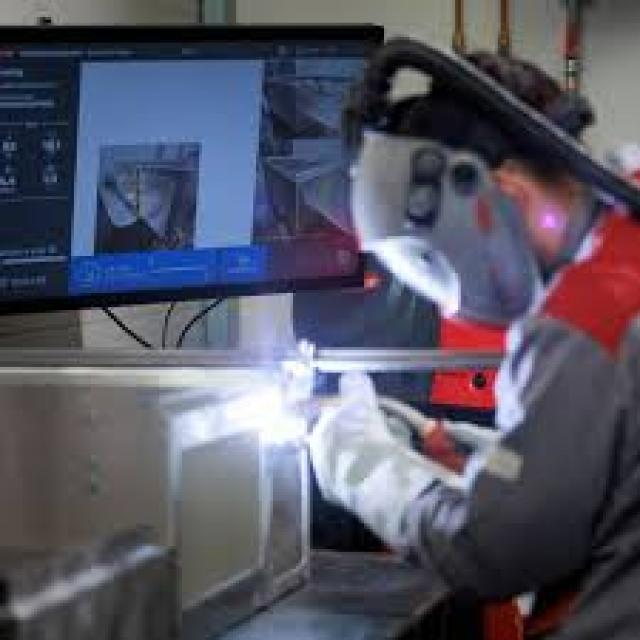welding: (257, 394, 306, 437)
